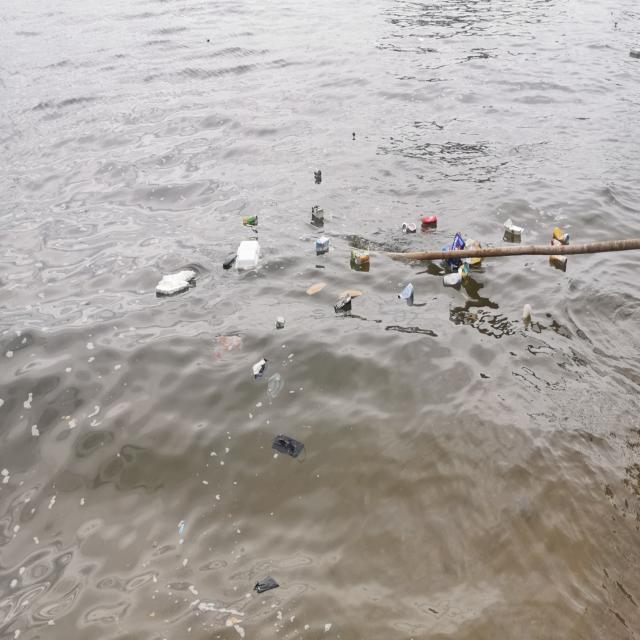can: (335, 296, 353, 314), (399, 284, 415, 301), (554, 228, 570, 244), (445, 273, 463, 287), (551, 256, 569, 270), (459, 264, 471, 282), (403, 222, 418, 236), (423, 216, 439, 225), (244, 216, 259, 225), (451, 261, 462, 271), (315, 170, 323, 178)
foam: (157, 268, 197, 297), (237, 241, 261, 271), (505, 219, 525, 236), (630, 48, 640, 54)
